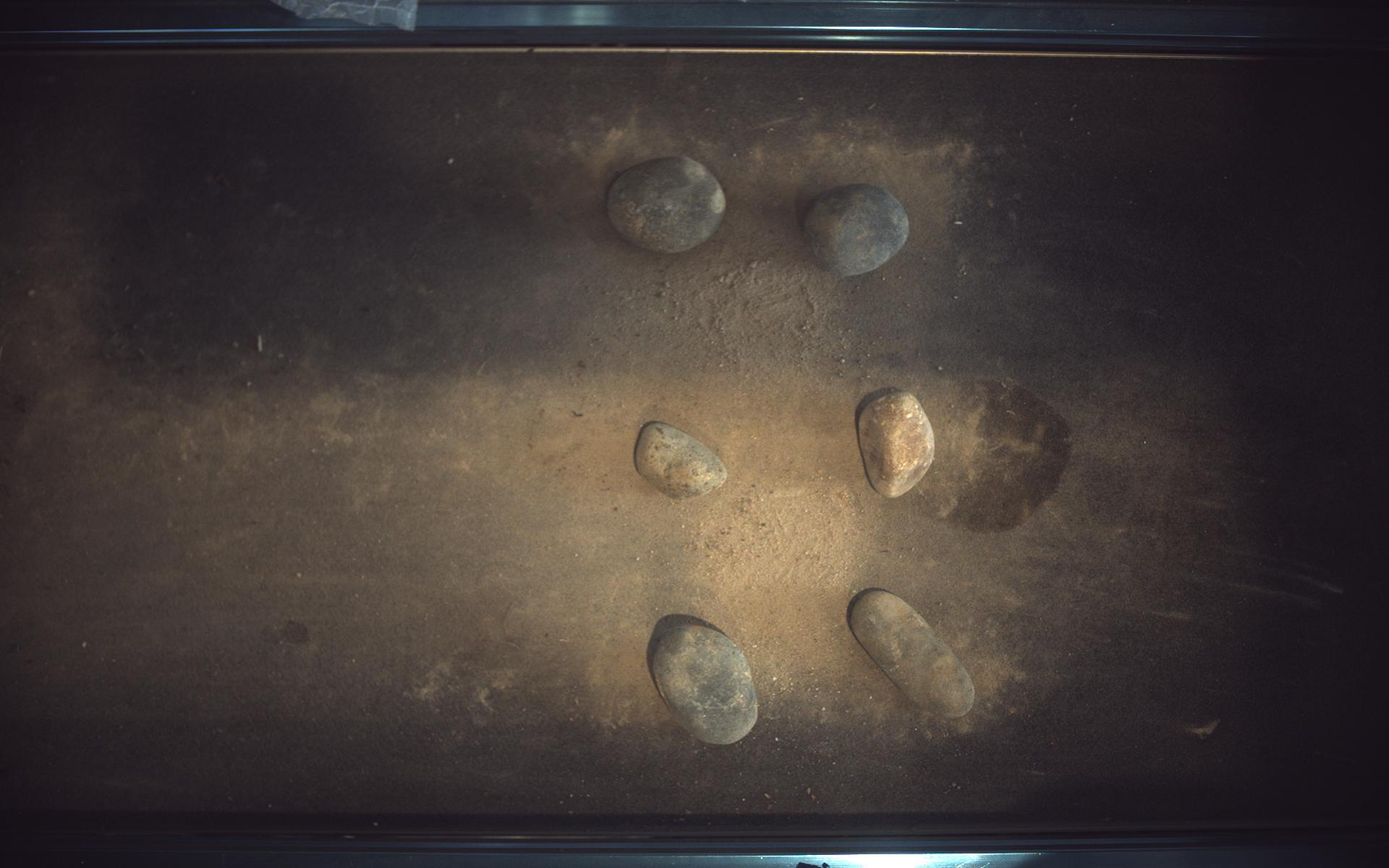stone: (849, 589, 977, 720), (647, 615, 759, 746), (607, 155, 727, 253), (806, 183, 911, 276), (859, 390, 937, 498), (637, 422, 728, 500)
